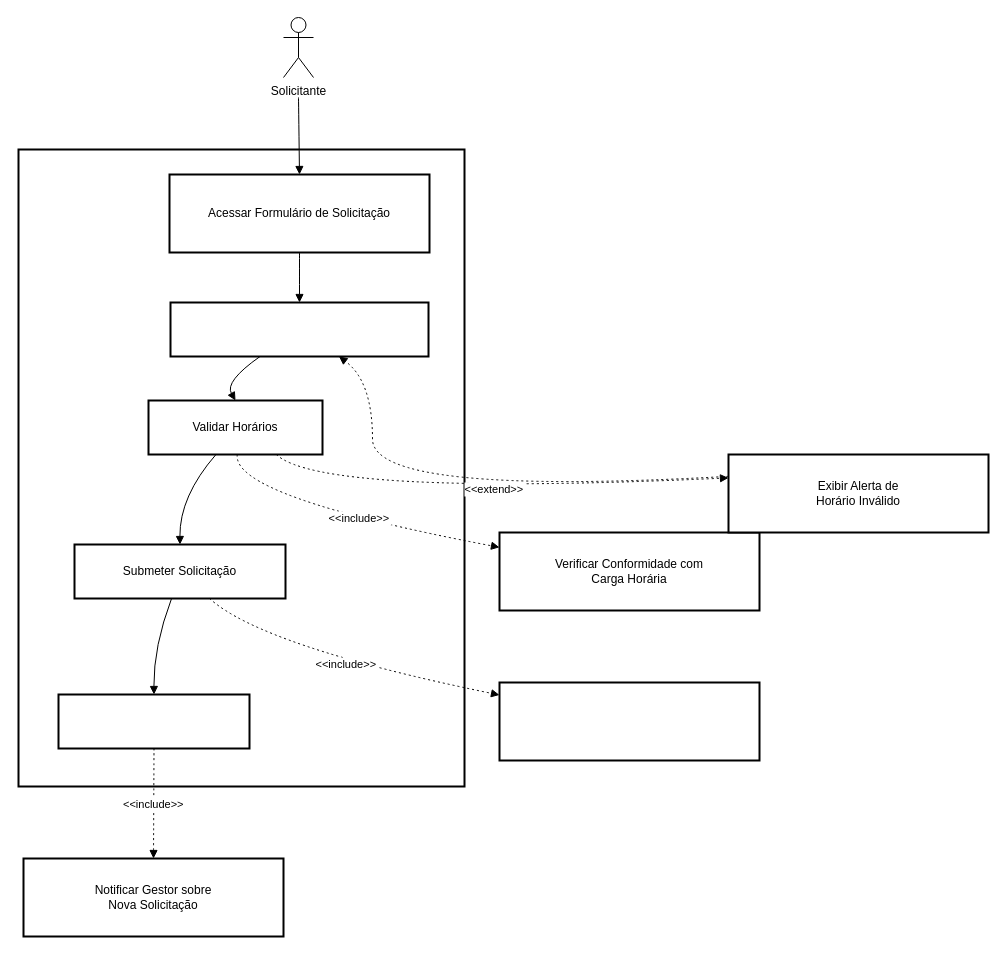
Some shapes in this 1006 by 955 pixel diagram are drawn without their labels. Here are the shapes that lost their labels. From the top down, the centre of each, then its label:
At pixel 299 329: "Preencher Dados da Viagem".
At pixel 153 721: "Enviar Notificação".
At pixel 629 721: "Registrar Solicitação no Sistema".
